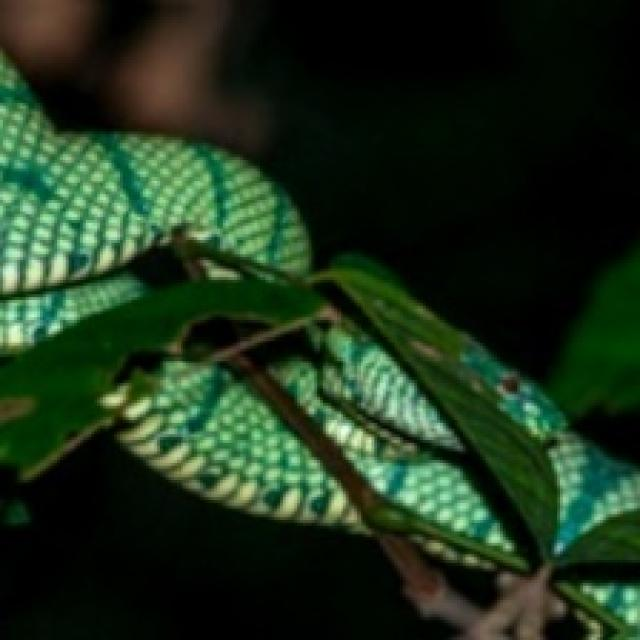north ph temple pitviper: (0, 53, 640, 572)
